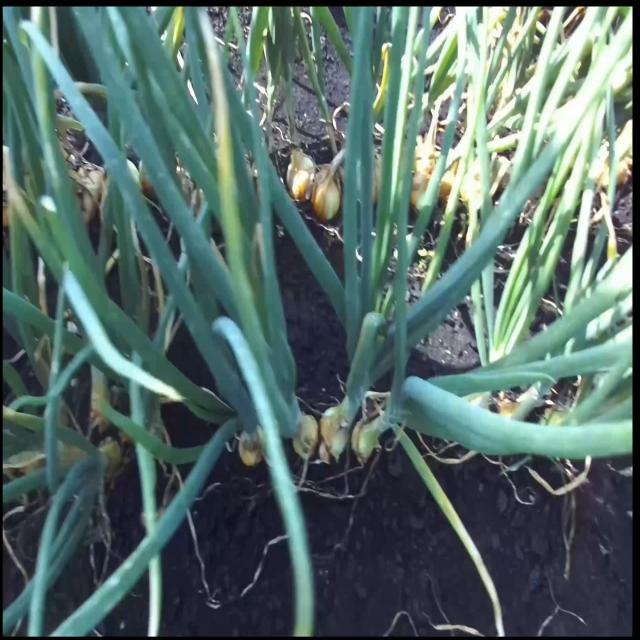onion: (310, 164, 341, 222), (286, 148, 315, 202)
